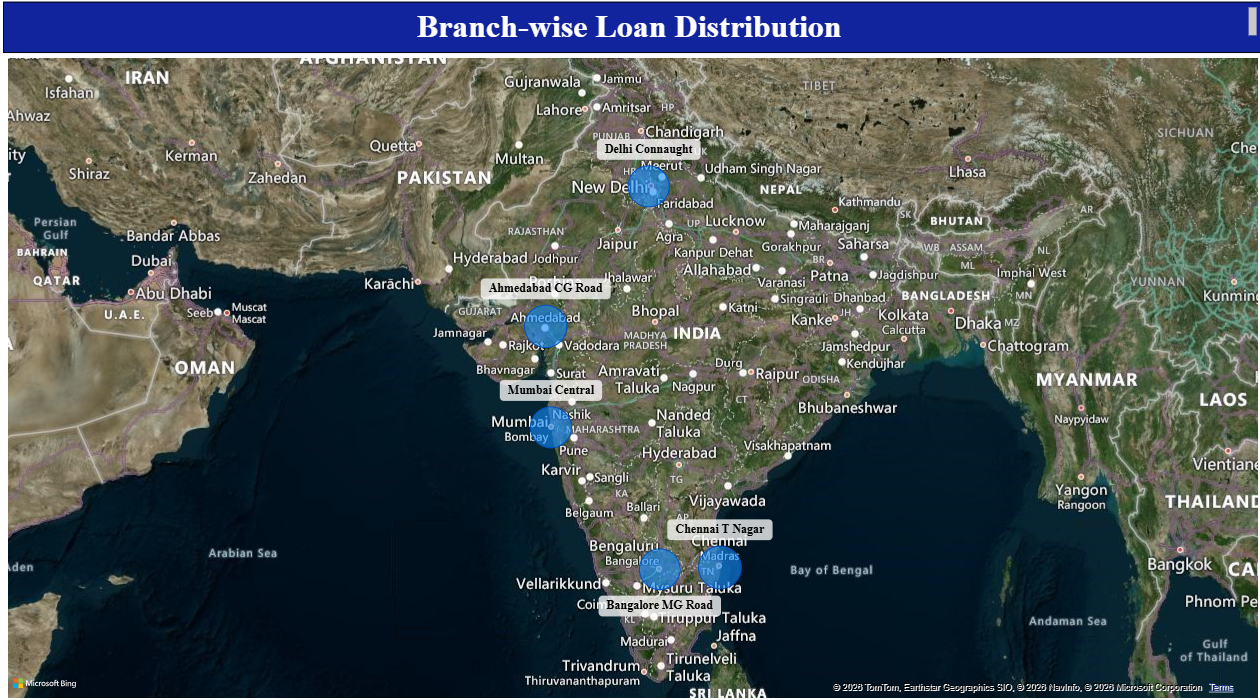

What the dashboard file says about the page in this screenshot:
{"tool":"powerbi","page":{"name":"MAP","canvas":[1280,720],"ordinal":4},"visuals":[{"type":"map","title":"Branch-wise Loan Distribution","fields":{"Category":["Dim_Branch.Branch Name"],"Size":["Sum(Dim_Risk.Loan Amount)"]},"box":[10,60,1260,650],"z":0},{"type":"textbox","box":[10,8.8,1260,51.2],"z":1000}]}

Visuals, with their boxes in screenshot pixels (x1, y1, x2, y2), scaled from the page's 1280x720 canvas onto the 1260x700 screenshot:
"Branch-wise Loan Distribution" map: (10, 58, 1250, 690)
textbox: (10, 9, 1250, 58)
